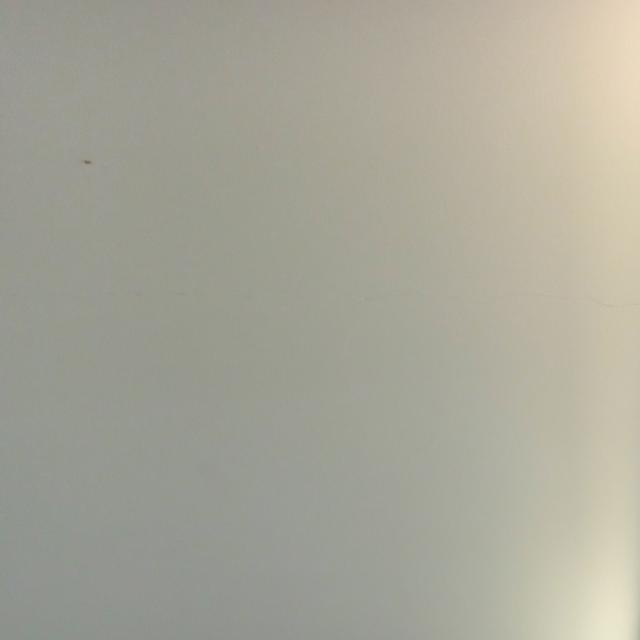fluorescent tube: (627, 0, 640, 640)
